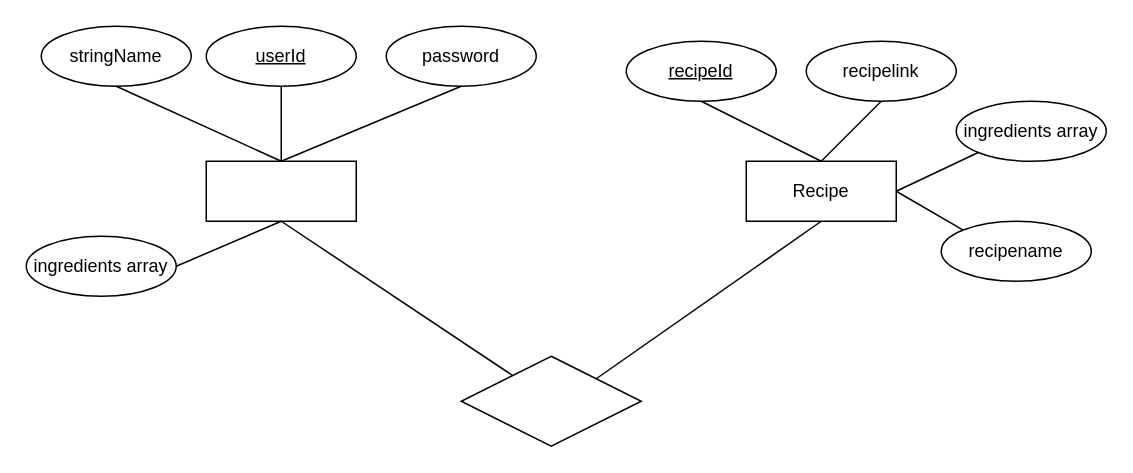
Image size: 1133x473. Some labels were removed from this diagram. Here are the shapes that lost their labels. From the top down, the box of each, then its label:
(205, 160, 356, 221): User
(460, 355, 641, 446): Ingredients included in
